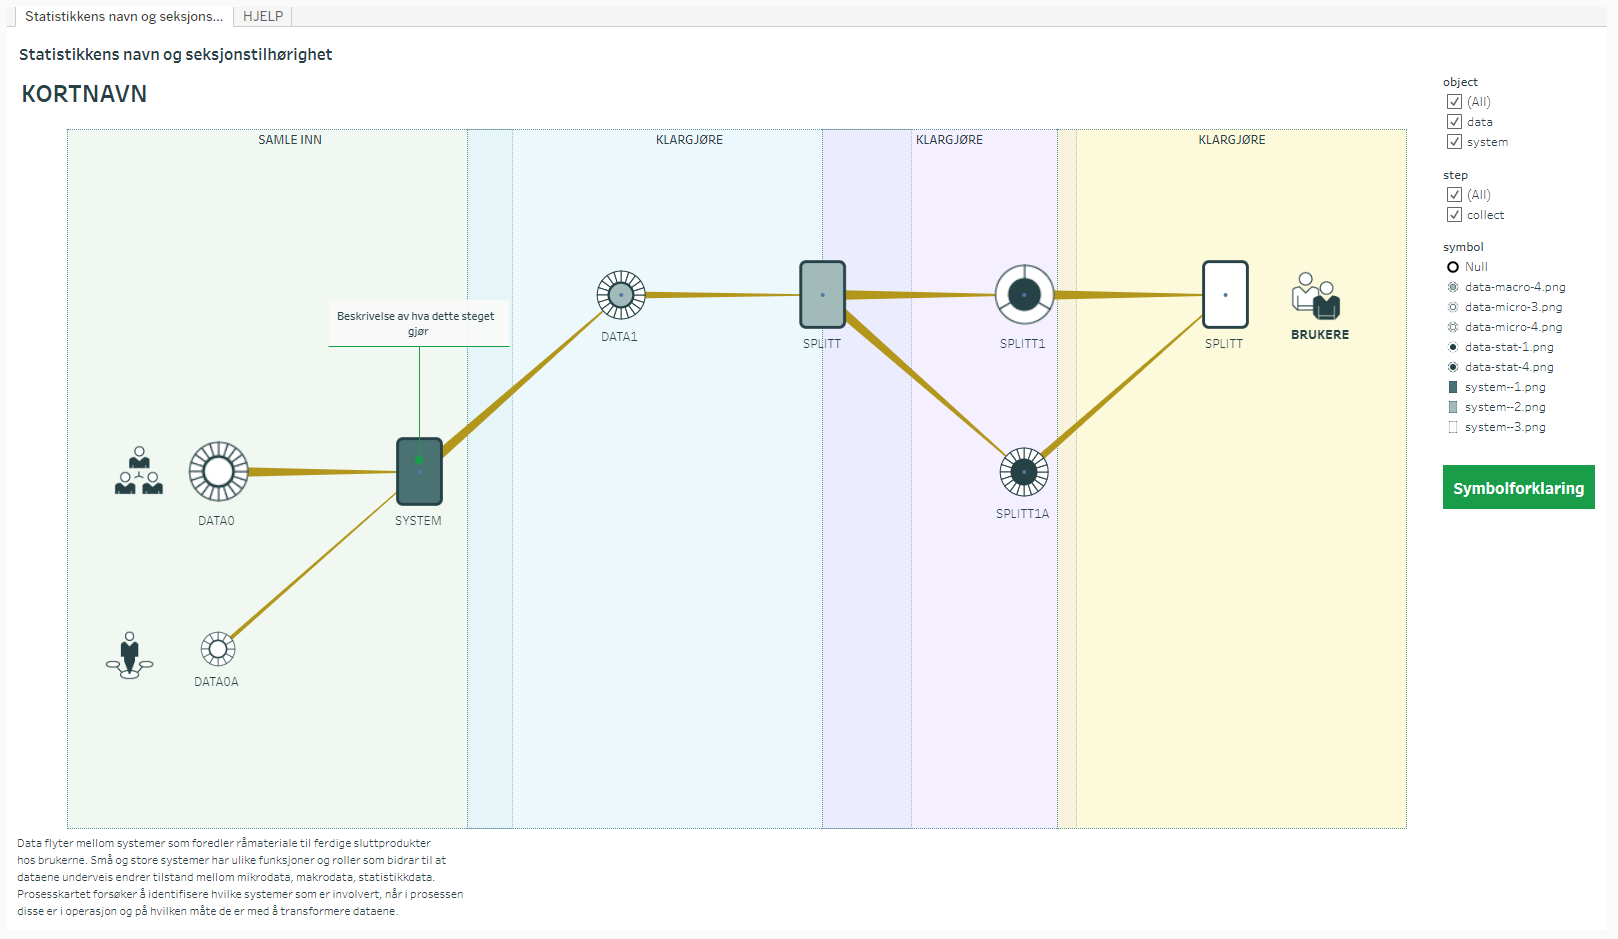

The page's visual inventory and layout, read from the dashboard file:
{"tool":"tableau","page":{"name":"Statistikkens navn og seksjonstilhørighet","canvas":[1600,900],"ordinal":1},"visuals":[{"type":"title","box":[8,8,1584,30]},{"type":"filter","title":"KORTNAVN","param":"[federated.1wjq2ba1wwc3vs13cbh5q1lluoy8].[none:object:nk]","box":[1432,38,160,89]},{"type":"worksheet","title":"KORTNAVN","mark":"Automatic","rows":["Y-line"],"cols":["X-line","X-shp"],"box":[10,40,1410,850]},{"type":"text","box":[10,80,527,770]},{"type":"text","box":[542,80,336,770]},{"type":"text","box":[882,80,246,770]},{"type":"text","box":[1130,80,281,770]},{"type":"filter","title":"KORTNAVN","param":"[federated.1wjq2ba1wwc3vs13cbh5q1lluoy8].[none:step:nk]","box":[1432,127,160,70]},{"type":"legend","title":"KORTNAVN","param":"[federated.1wjq2ba1wwc3vs13cbh5q1lluoy8].[none:symbol:nk]","box":[1432,197,160,227]},{"type":"text","box":[1227,207,100,30]},{"type":"image","param":"Image/bruker.png","box":[1253,251,50,50]},{"type":"dashboard-object","box":[1432,424,160,52]},{"type":"image","param":"Image/kilde1.png","box":[117,440,50,50]},{"type":"image","param":"Image/kilde2.png","box":[111,638,50,50]}]}

Visuals, with their boxes on the page's 1600x900 design canvas (x1, y1, x2, y2). These are canvas units, not pixel positions in the 1618x939 screenshot, which may show the page scaled, cropped or inside an application window:
title: [8,8,1592,38]
"KORTNAVN" filter: [1432,38,1592,127]
"KORTNAVN" worksheet: [10,40,1420,890]
text: [10,80,537,850]
text: [542,80,878,850]
text: [882,80,1128,850]
text: [1130,80,1411,850]
"KORTNAVN" filter: [1432,127,1592,197]
"KORTNAVN" legend: [1432,197,1592,424]
text: [1227,207,1327,237]
image: [1253,251,1303,301]
dashboard-object: [1432,424,1592,476]
image: [117,440,167,490]
image: [111,638,161,688]
